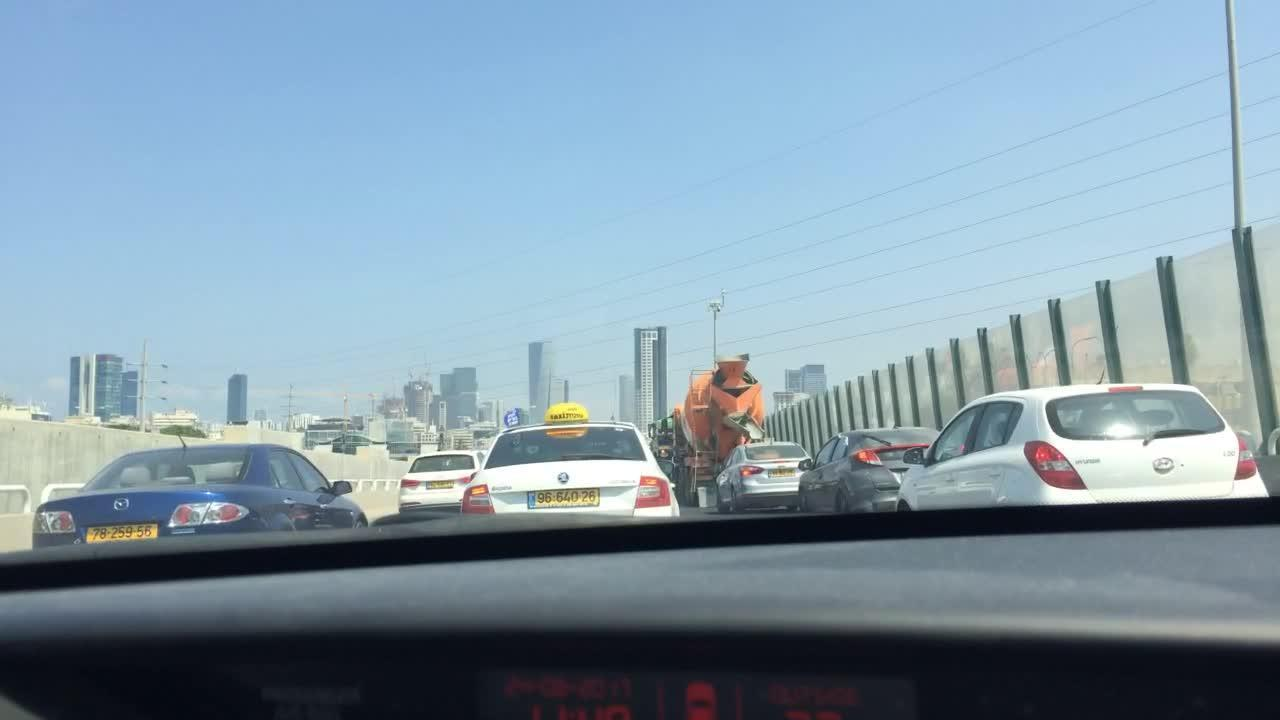Hyundai: (1148, 455, 1181, 478)
Mazda: (113, 493, 131, 514)
skoda: (556, 469, 573, 486)
